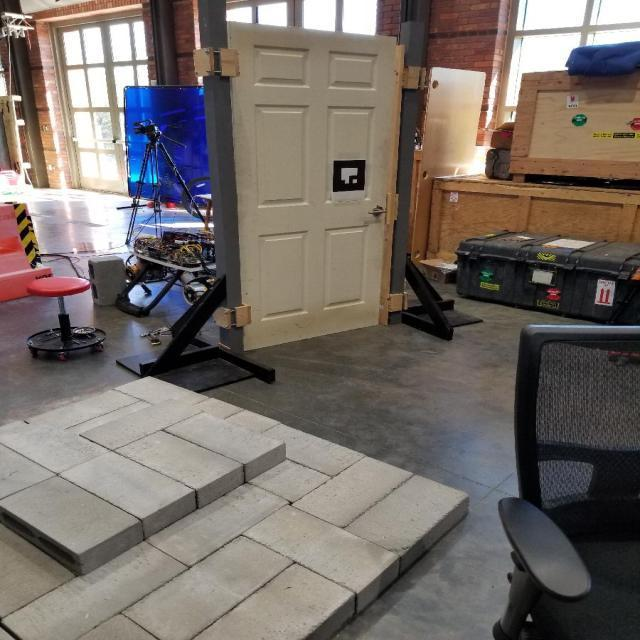door: (222, 15, 402, 355), (370, 204, 388, 219)
